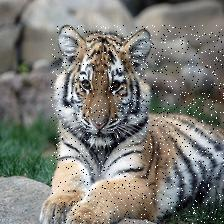tiger: (51, 25, 224, 224)
